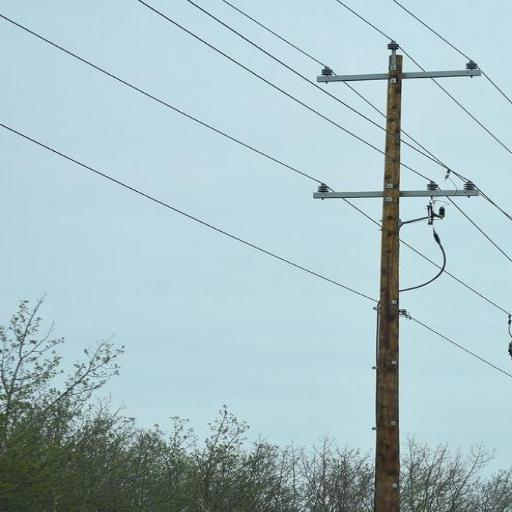mono_8: (307, 41, 484, 511)
